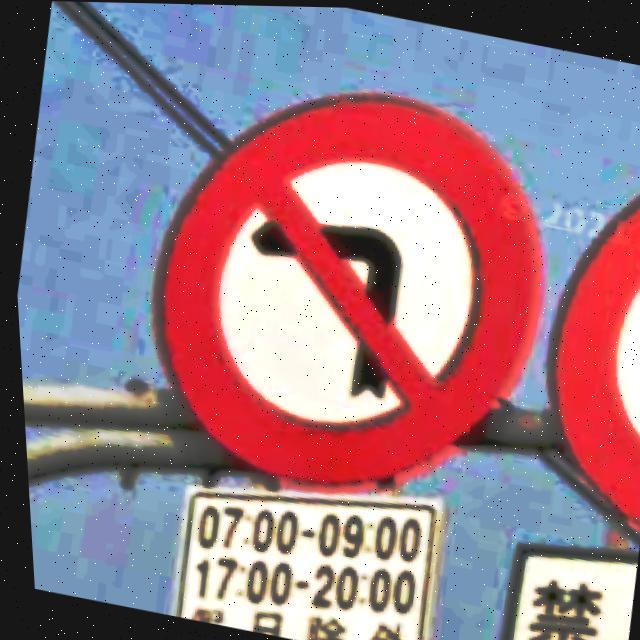noturnleft: (108, 49, 576, 525)
